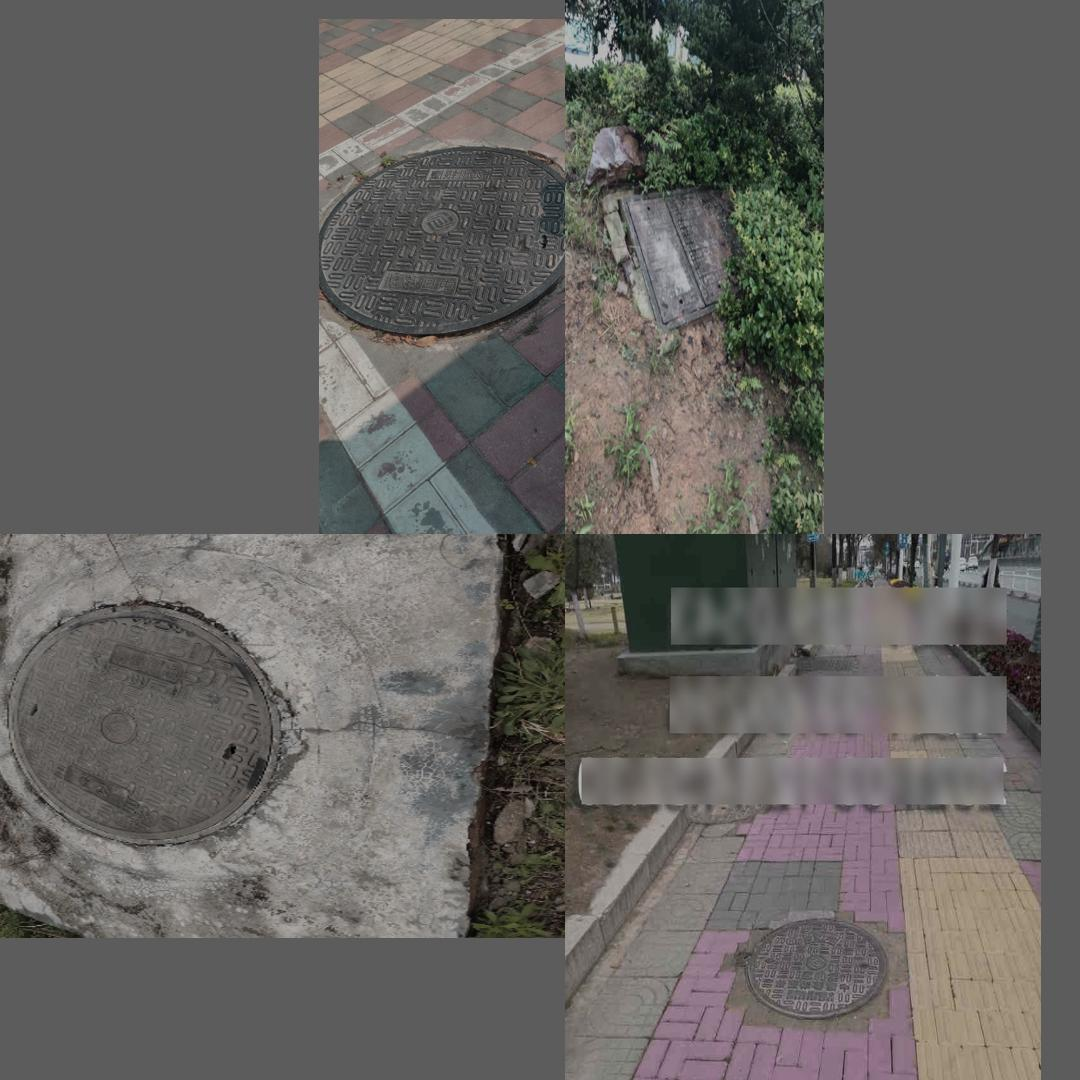good: (10, 607, 277, 844), (318, 144, 563, 333), (620, 181, 739, 329), (742, 911, 888, 1016)
